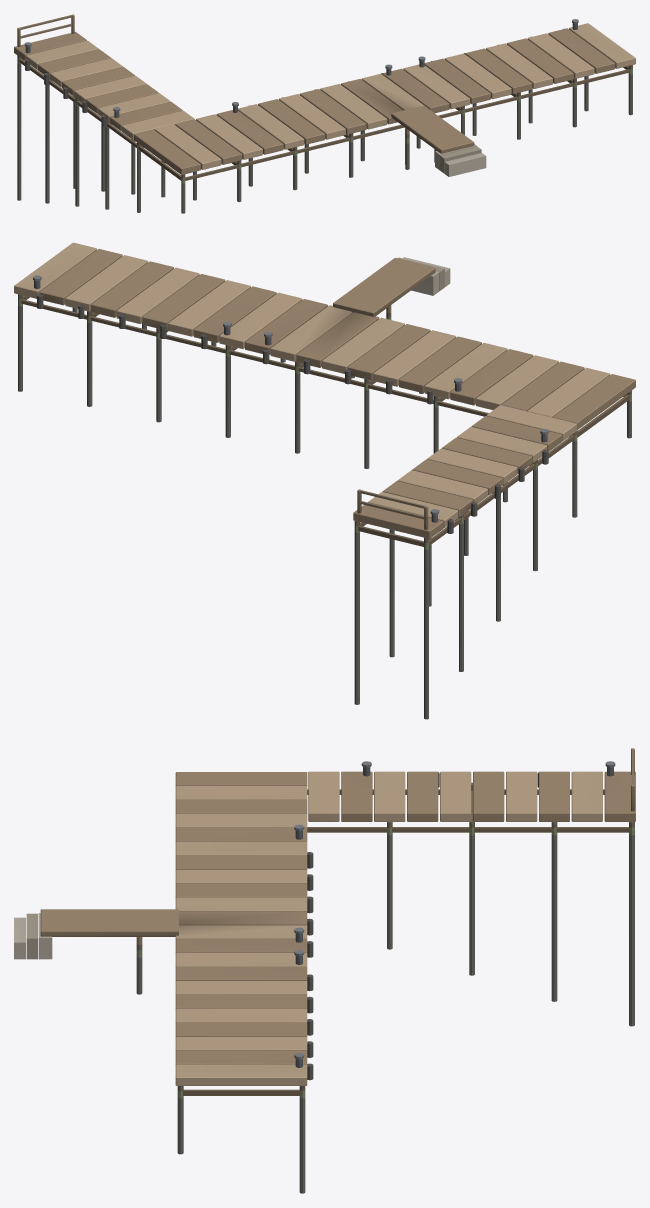
File: dock_boat_wide.glb
The picture shows the model from 3 angles, top to bottom: view 1: azimuth 30°, elevation 25°; view 2: azimuth 150°, elevation 25°; view 3: azimuth 270°, elevation 25°; orthographic projection. The views are drawn at different scales.
Parts seen in each view (by area): view 1: dock_boat_wide; view 2: dock_boat_wide; view 3: dock_boat_wide.
Boxes of the visible parts, left/top/right/bottom form: dock_boat_wide: left=14, top=14, right=635, bottom=213; dock_boat_wide: left=14, top=242, right=635, bottom=719; dock_boat_wide: left=14, top=748, right=635, bottom=1193.
Bounding box in the file's own units: 22.16 × 8 × 18.88.
